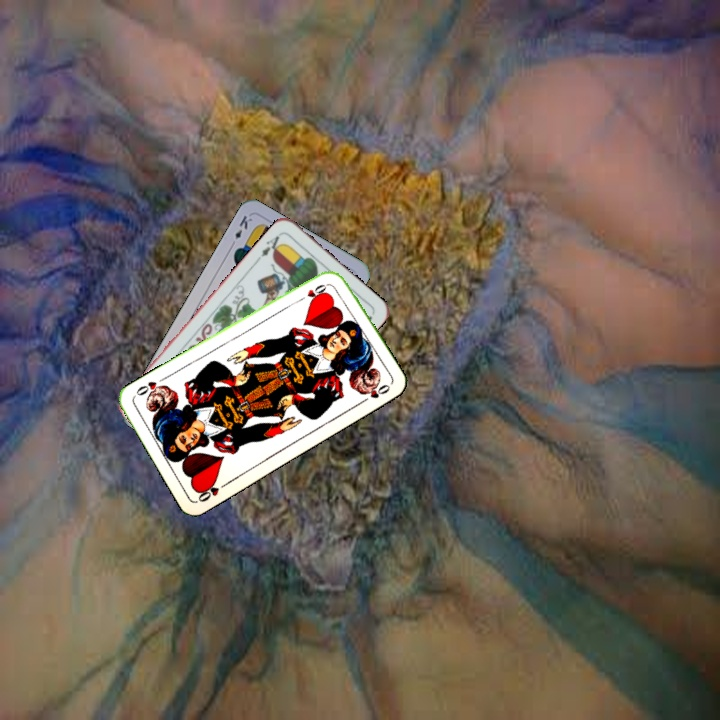EA: (253, 229, 286, 263)
EK: (226, 211, 255, 250)
HO: (193, 477, 231, 505), (294, 279, 332, 304)
